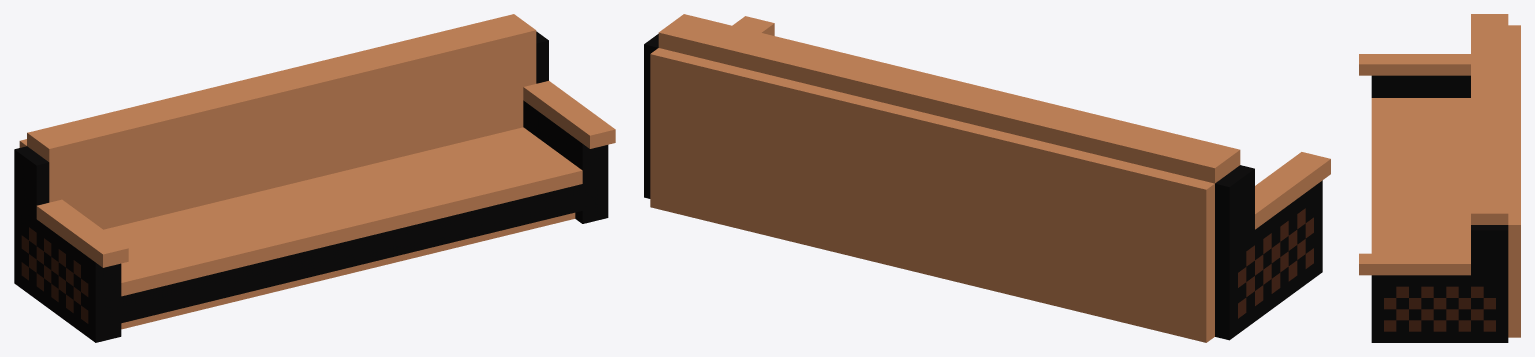
The model's file is Sofa2.obj.
The picture shows the model from 3 angles, left to right: view 1: azimuth 30°, elevation 25°; view 2: azimuth 150°, elevation 25°; view 3: azimuth 270°, elevation 25°; orthographic projection. The views are drawn at different scales.
Bounding box in the file's own units: 4 × 1.1 × 1.3.
1 material, 1 textured.
